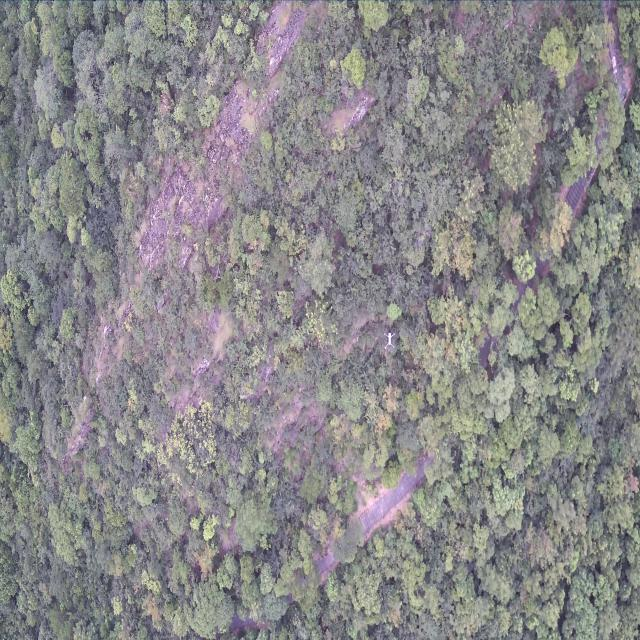UAV: (384, 331, 396, 350)
